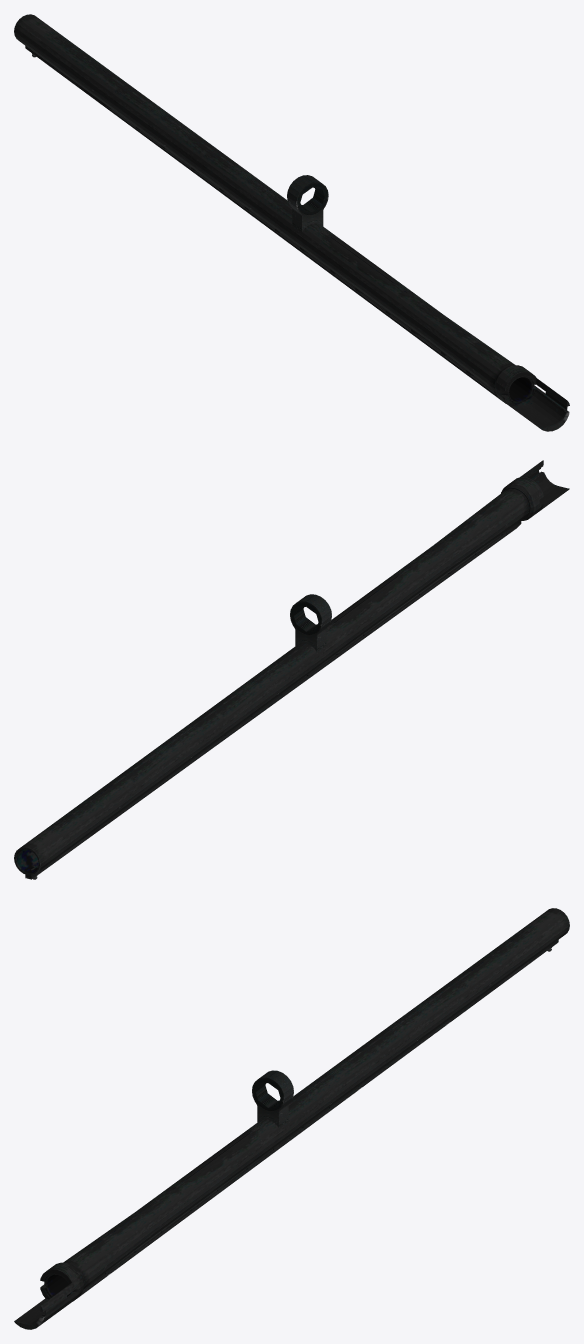
3 views of the same model, one above another, from view 1: azimuth 30°, elevation 25°; view 2: azimuth 150°, elevation 25°; view 3: azimuth 330°, elevation 25° (orthographic).
Visible parts, largest first — view 1: TW_560837544bdc2de22e8b456e_PZ_Import; view 2: TW_560837544bdc2de22e8b456e_PZ_Import; view 3: TW_560837544bdc2de22e8b456e_PZ_Import.
Part boxes in pixels (box(x1,y1,x2,y2)): TW_560837544bdc2de22e8b456e_PZ_Import: box(14, 14, 569, 431); TW_560837544bdc2de22e8b456e_PZ_Import: box(14, 460, 569, 879); TW_560837544bdc2de22e8b456e_PZ_Import: box(14, 908, 569, 1329).
Size of the model in its own units: 0.0167 by 0.4366 by 0.0359.
Materials: 1 (1 with a texture image).
